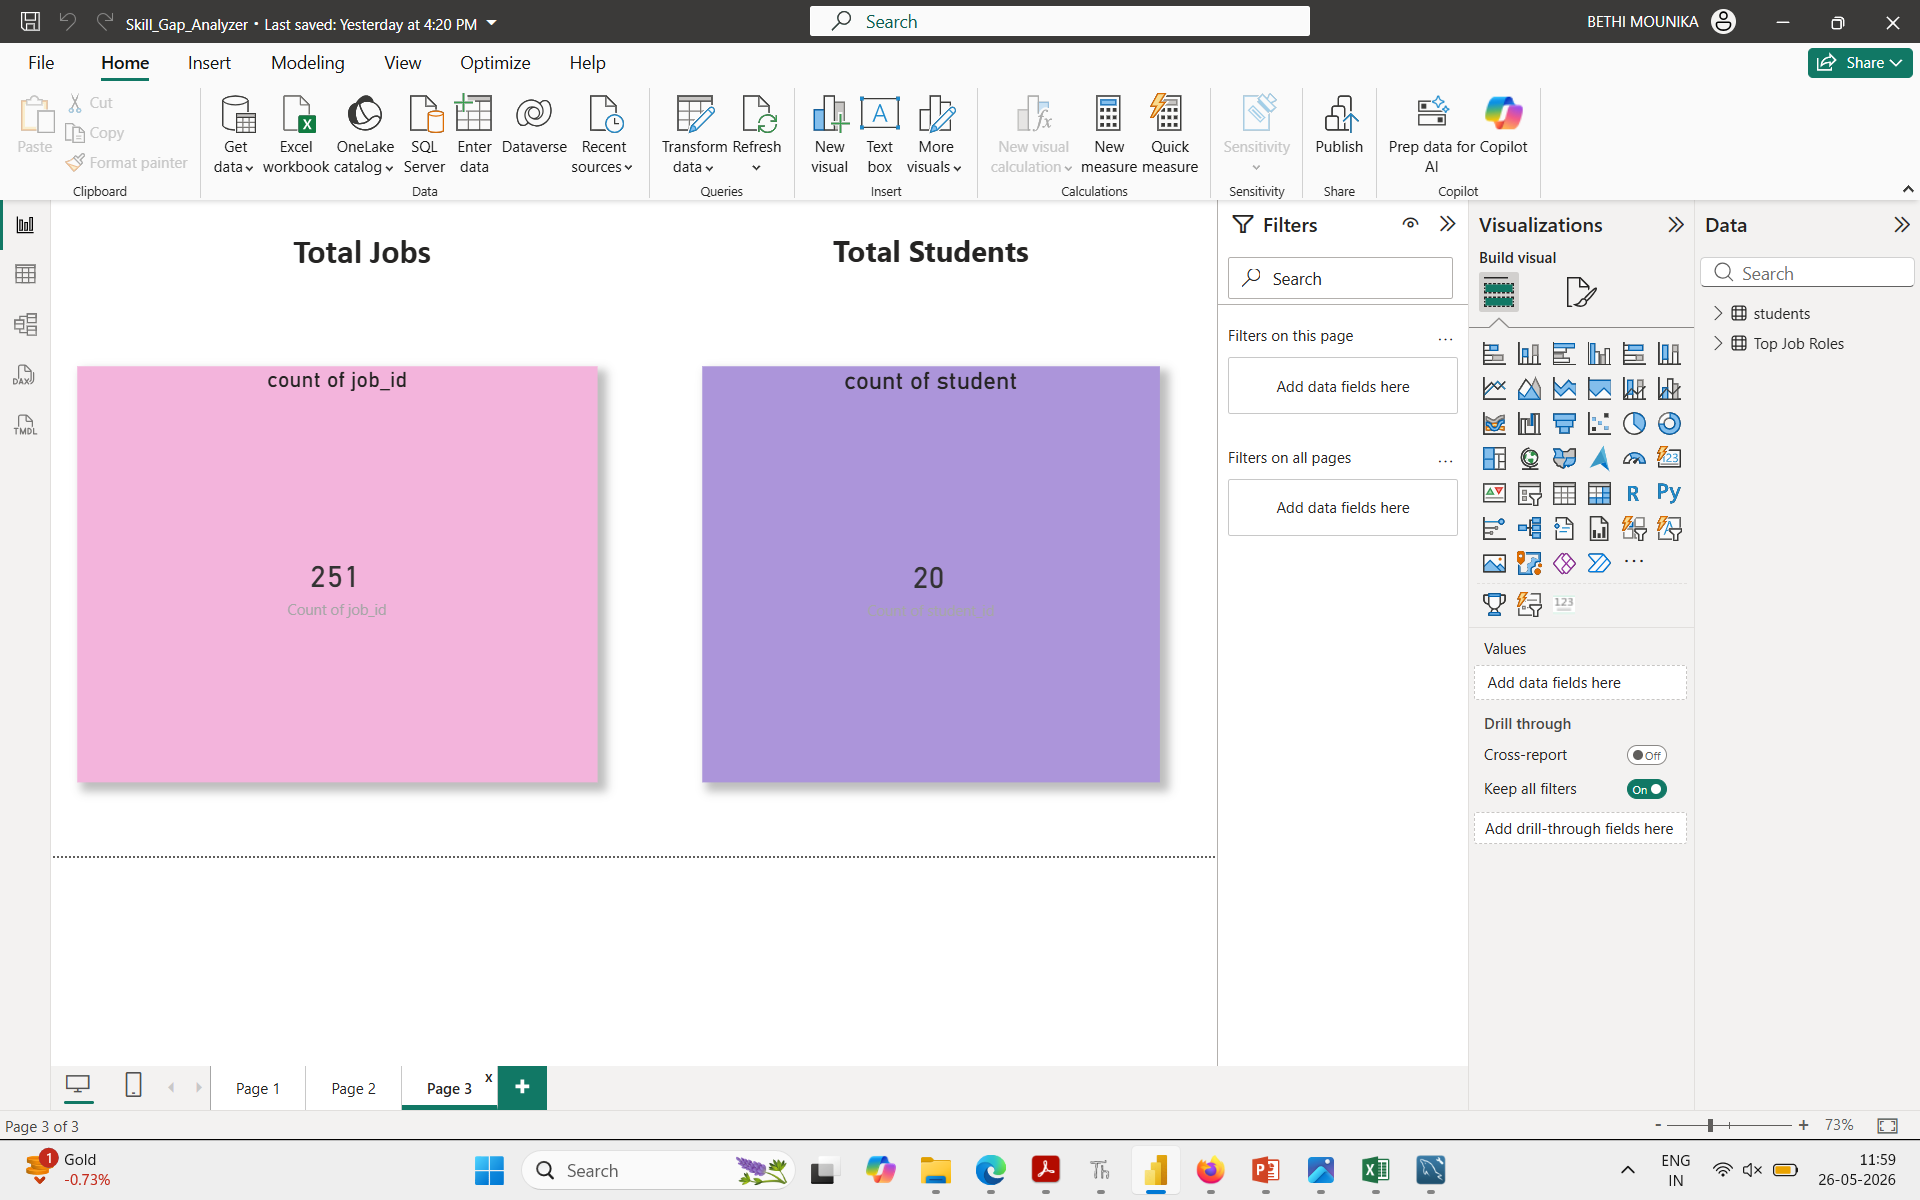

This screenshot's page, from the dashboard's own definition file:
{"tool":"powerbi","page":{"name":"Page 3","canvas":[1280,720],"ordinal":2},"visuals":[{"type":"advanceCardE03760C5AB684758B56AA29F9E6C257B","title":"count of job_id","fields":{"mainMeasure":["CountNonNull(Top Job Roles.job_id)"]},"box":[28.8,182.5,570.8,456.9],"z":0},{"type":"textbox","box":[28.8,28.8,625.7,87.8],"z":1000},{"type":"textbox","box":[714.9,28.8,502.2,87.8],"z":3000},{"type":"advanceCardE03760C5AB684758B56AA29F9E6C257B","title":"count of student","fields":{"mainMeasure":["CountNonNull(students.student_id)"]},"box":[715,183,502,457],"z":4000}]}

Visuals, with their boxes on the page's 1280x720 design canvas (x1, y1, x2, y2). These are canvas units, not pixel positions in the 1920x1200 screenshot, which may show the page scaled, cropped or inside an application window:
"count of job_id" advanceCardE03760C5AB684758B56AA29F9E6C257B: {"left": 29, "top": 182, "right": 600, "bottom": 639}
textbox: {"left": 29, "top": 29, "right": 654, "bottom": 117}
textbox: {"left": 715, "top": 29, "right": 1217, "bottom": 117}
"count of student" advanceCardE03760C5AB684758B56AA29F9E6C257B: {"left": 715, "top": 183, "right": 1217, "bottom": 640}
